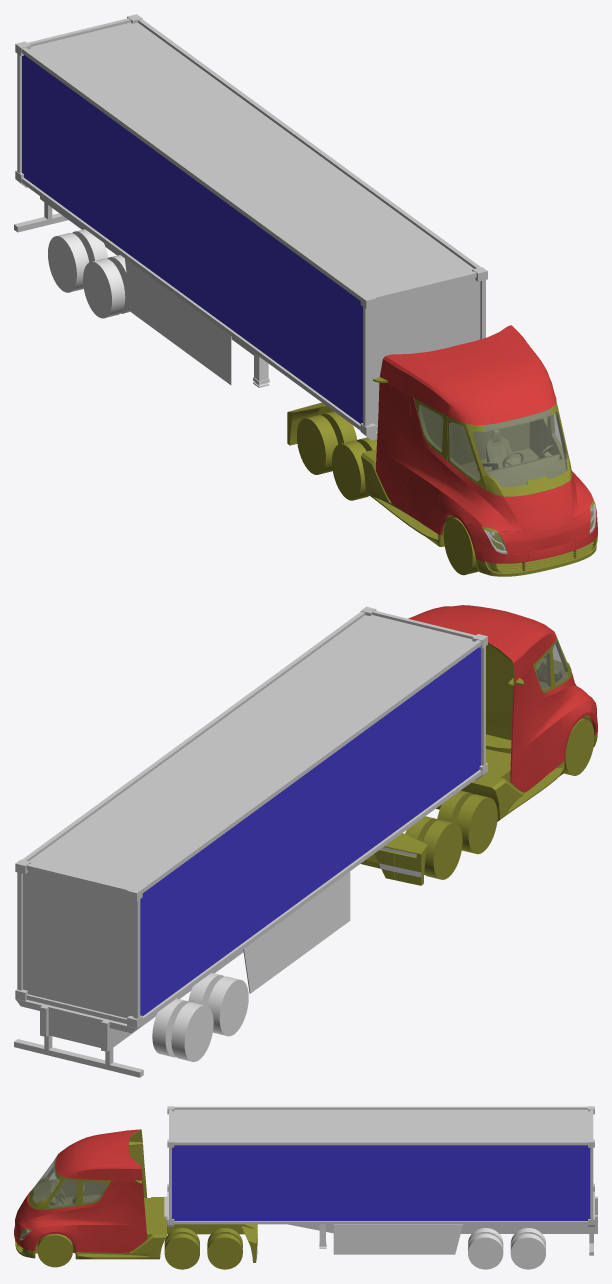
The model's file is semi-trailer.fbx.
The picture shows the model from 3 angles, top to bottom: view 1: azimuth 30°, elevation 25°; view 2: azimuth 150°, elevation 25°; view 3: azimuth 270°, elevation 25°; orthographic projection. The views are drawn at different scales.
Visible parts, largest first — view 1: Container, Semi, Trailer side cover, Trailer wheels, Trailer; view 2: Container, Semi, Trailer wheels, Trailer side cover, Trailer; view 3: Container, Semi, Trailer side cover, Trailer wheels, Trailer.
Part boxes in pixels (x1,y1,x2,y2): Container: (15, 14, 487, 435); Semi: (287, 325, 597, 576); Trailer side cover: (124, 258, 231, 385); Trailer wheels: (48, 229, 130, 318); Trailer: (14, 180, 377, 440); Container: (15, 606, 487, 1028); Semi: (360, 605, 597, 885); Trailer wheels: (152, 973, 248, 1062); Trailer side cover: (243, 871, 350, 993); Trailer: (14, 773, 485, 1077); Container: (167, 1106, 594, 1224); Semi: (14, 1129, 257, 1269); Trailer side cover: (333, 1224, 462, 1254); Trailer wheels: (468, 1228, 545, 1269); Trailer: (164, 1191, 597, 1255).
Size of the model in its own units: 303 by 396 by 1678.
